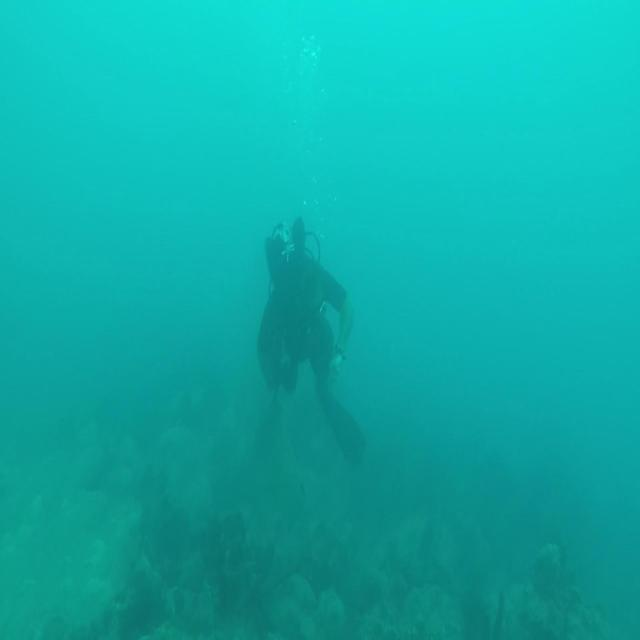human: (256, 214, 366, 466)
